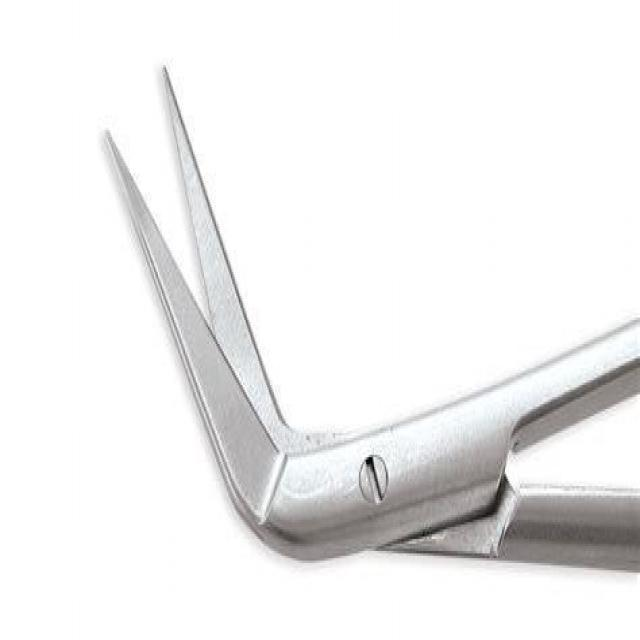Potts: (100, 52, 640, 578)
